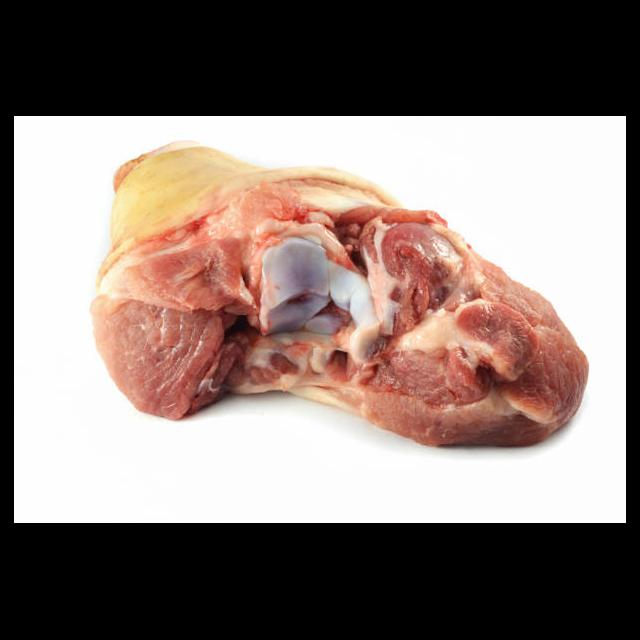chicken: (88, 138, 591, 454)
